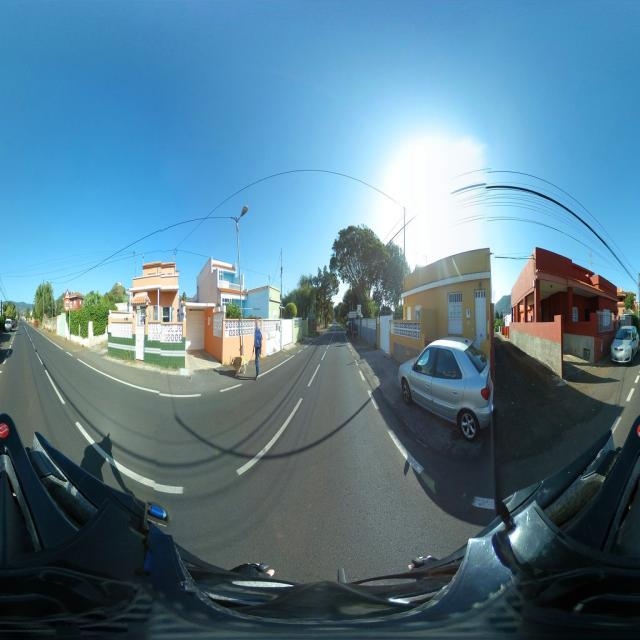car: (398, 338, 494, 446), (610, 324, 640, 364)
